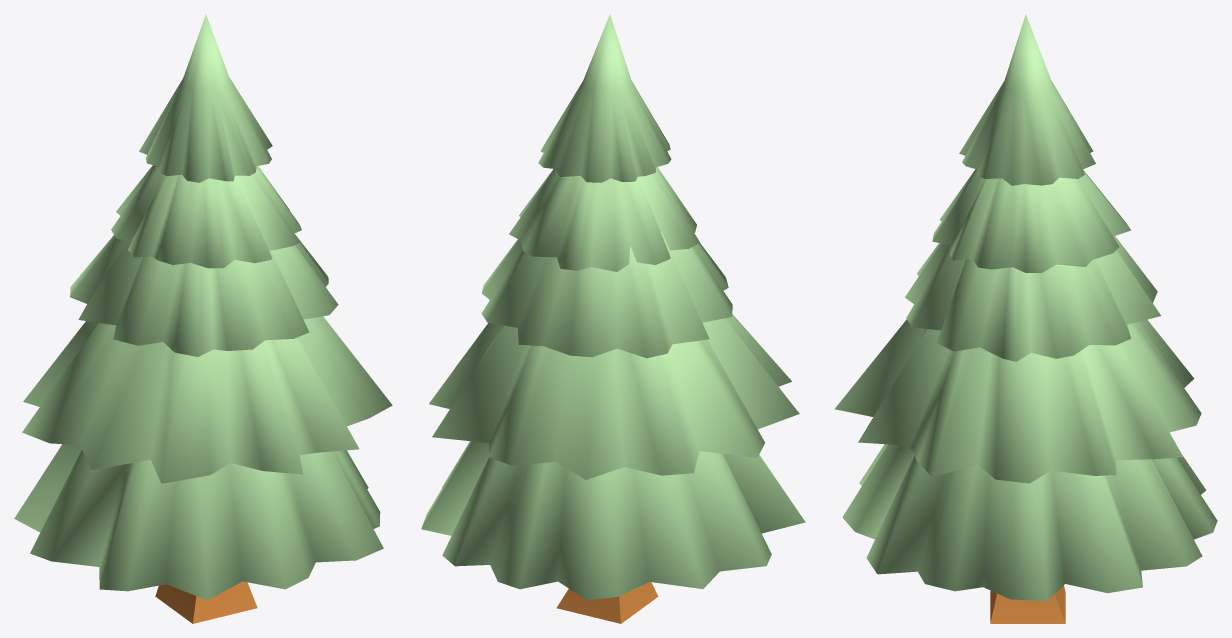
The model's file is tree.glb.
3 views of the same model, side by side, from view 1: azimuth 30°, elevation 25°; view 2: azimuth 150°, elevation 25°; view 3: azimuth 270°, elevation 25° (orthographic).
Parts seen in each view (by area): view 1: Circle.001, Circle, Circle.002, Circle.003, Circle.004, Cube; view 2: Circle, Circle.001, Circle.002, Circle.003, Circle.004, Cube; view 3: Circle, Circle.001, Circle.002, Circle.003, Circle.004, Cube.
Part boxes in pixels (x1,y1,x2,y2): Circle.001: (22, 316, 392, 483); Circle: (14, 444, 383, 599); Circle.002: (70, 232, 338, 356); Circle.003: (111, 165, 301, 268); Circle.004: (139, 14, 272, 182); Cube: (155, 581, 257, 623); Circle: (421, 441, 805, 600); Circle.001: (429, 314, 799, 479); Circle.002: (481, 232, 732, 358); Circle.003: (509, 167, 699, 271); Circle.004: (538, 14, 671, 182); Cube: (556, 582, 658, 623); Circle: (842, 444, 1217, 601); Circle.001: (834, 319, 1201, 483); Circle.002: (905, 236, 1160, 361); Circle.003: (932, 169, 1130, 272); Circle.004: (959, 14, 1095, 185); Cube: (990, 585, 1065, 623).
Bounding box in the file's own units: 1.63 × 2.82 × 1.65.
